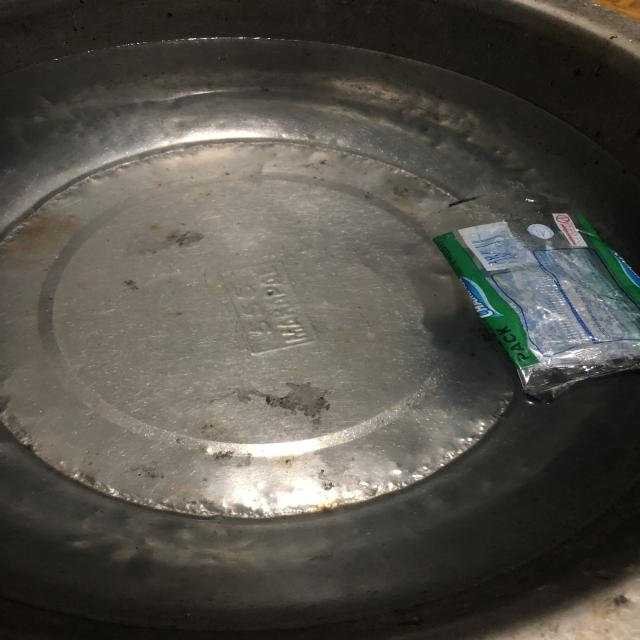Plastic Wrapper: (379, 156, 640, 427)
